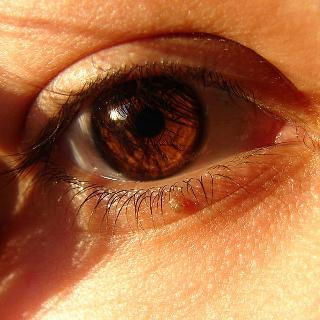pupil: (135, 108, 165, 138)
